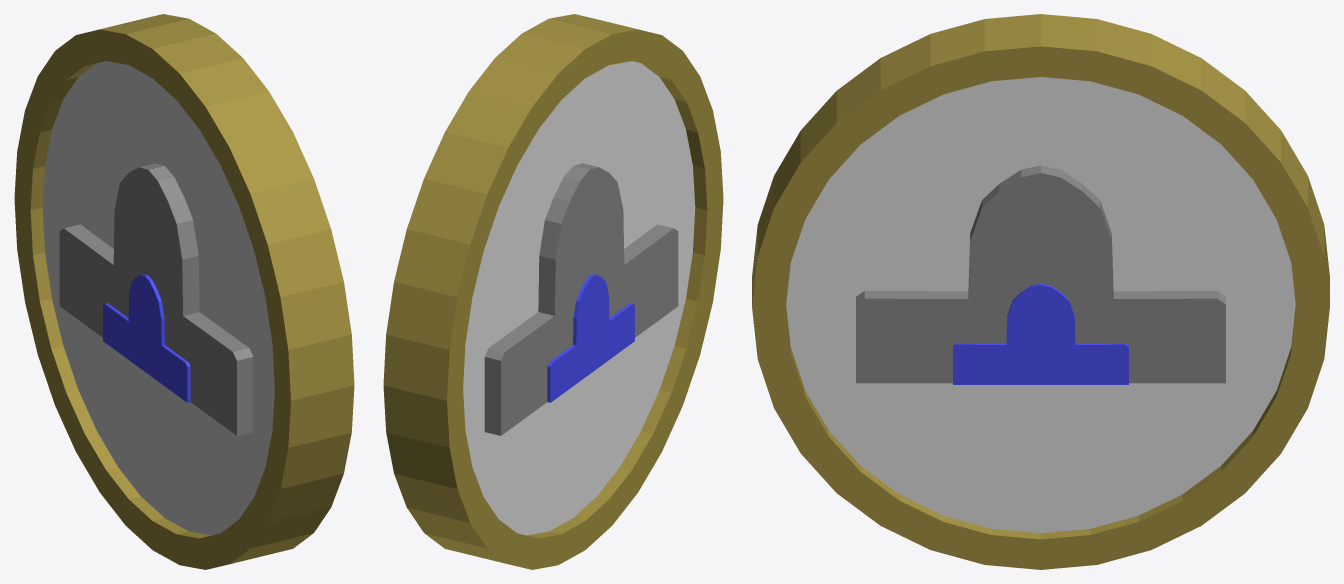
The model's file is small.fbx.
The picture shows the model from 3 angles, left to right: view 1: azimuth 30°, elevation 25°; view 2: azimuth 150°, elevation 25°; view 3: azimuth 270°, elevation 25°; orthographic projection. The views are drawn at different scales.
Parts seen in each view (by area): view 1: Small; view 2: Small; view 3: Small.
Part boxes in pixels (bbox=[...]): Small: bbox=[14, 14, 354, 569]; Small: bbox=[383, 14, 723, 569]; Small: bbox=[752, 14, 1329, 569].
Bounding box in the file's own units: 32.4 × 200 × 200.
